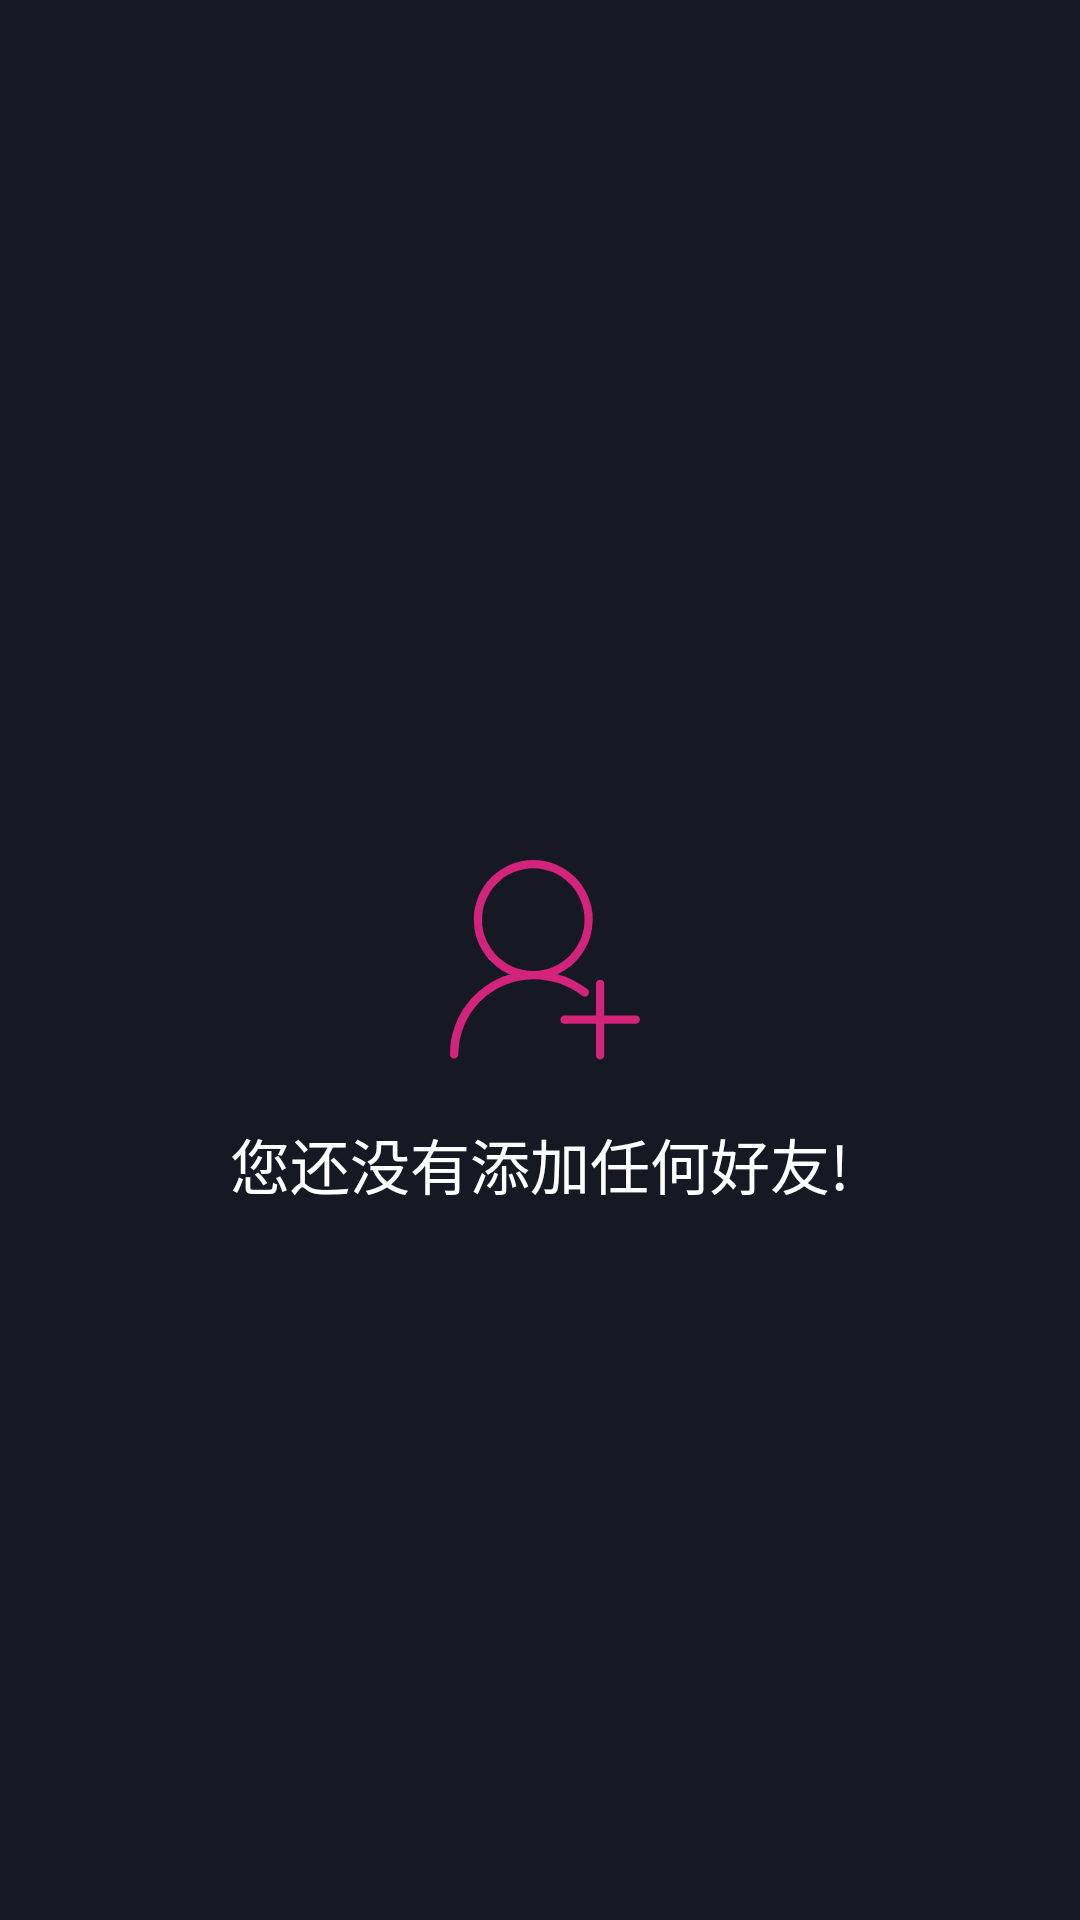

Icon bounding boxes for this 1080x1920 phone screenshot, format (x1, y1, x2, y2):
nofriends: (450, 860, 640, 1060)
